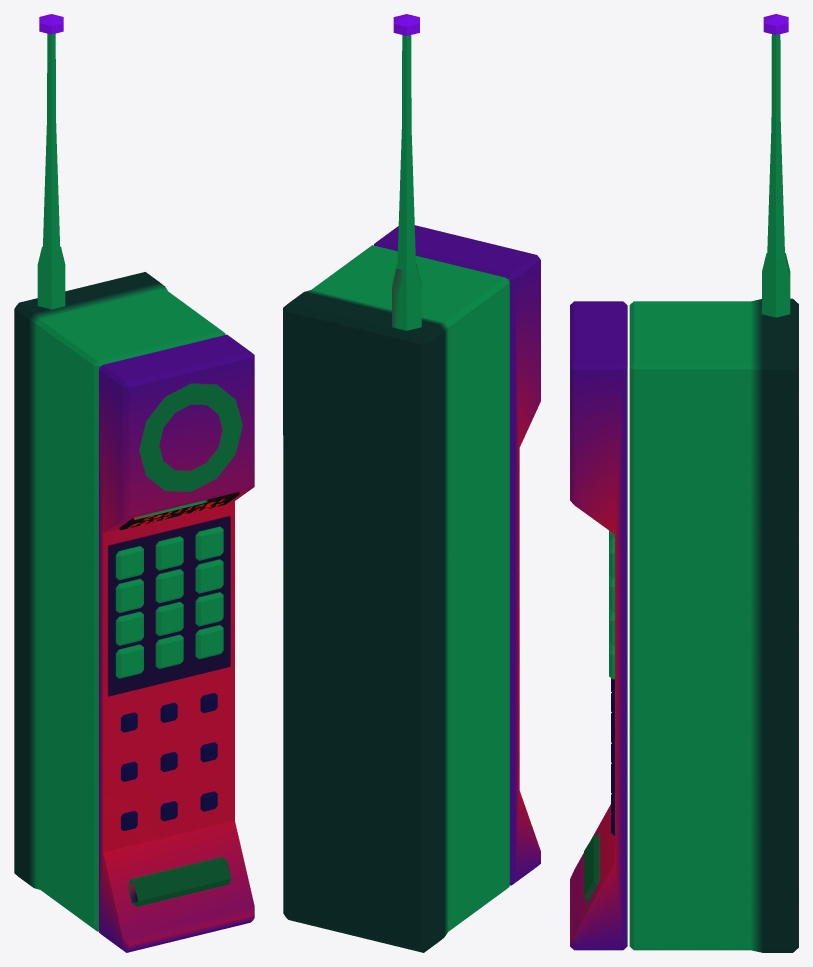
File: phone_708c7214aa7f.glb
3 views of the same model, side by side, from view 1: azimuth 30°, elevation 25°; view 2: azimuth 150°, elevation 25°; view 3: azimuth 270°, elevation 25° (orthographic). The views are drawn at different scales.
Parts seen in each view (by area): view 1: Phono; view 2: Phono; view 3: Phono.
Part boxes in pixels (x1,y1,x2,y2): Phono: (14,14,254,952); Phono: (283,14,540,952); Phono: (570,14,798,952).
Bounding box in the file's own units: 0.0853 × 0.5174 × 0.1216.
Materials: 1 (1 with a texture image).
